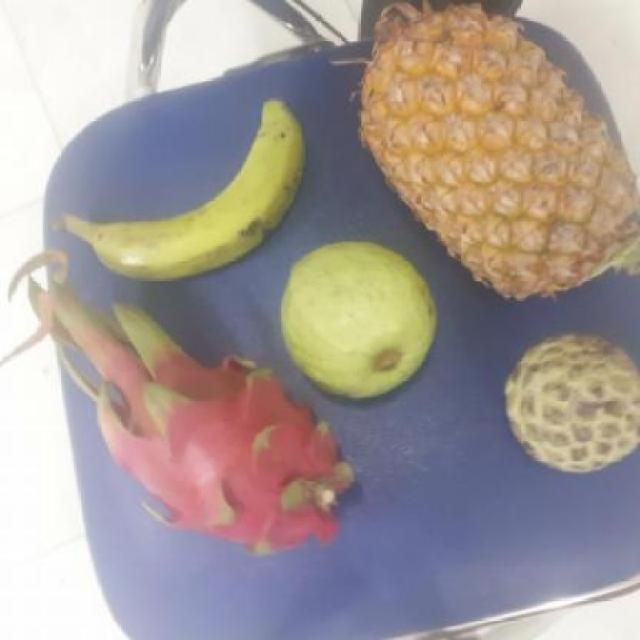dragon fruit: (99, 353, 359, 558)
guava: (272, 245, 440, 404)
pineapple: (356, 6, 639, 286)
sugar apple: (495, 333, 639, 473)
